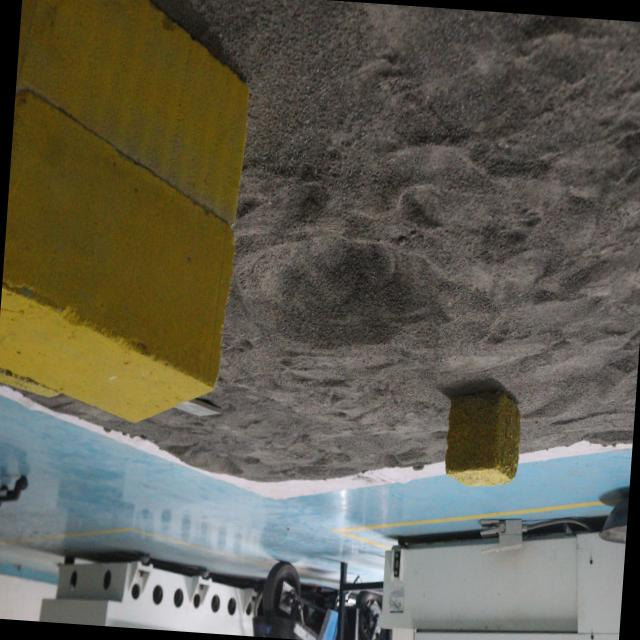box: (0, 0, 259, 430), (438, 383, 522, 489)
crater: (238, 215, 464, 364)
